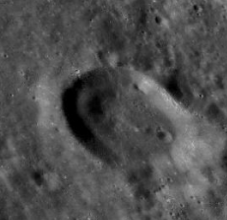crater: (48, 45, 206, 202)
